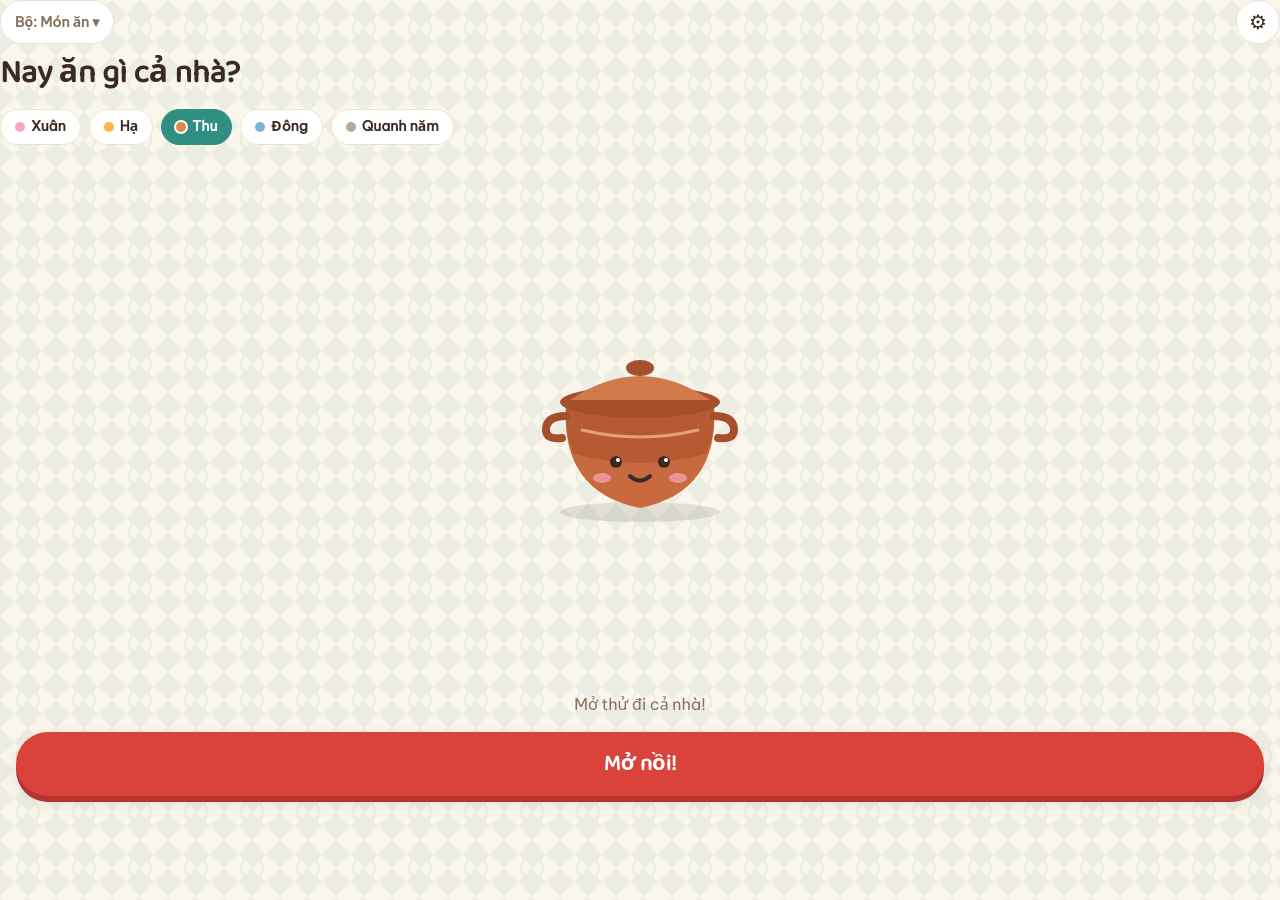
Test: SpinScreen › ô hết món → Thêm món: đóng mâm, mở form điền sẵn nhóm + mùa đang chọn; đóng form thì focus nút Quay
The image size is (1280, 900).
Click the button "Mở nồi!": (640, 764) x1=16 y1=732 x2=1264 y2=796
Wait 6910 ms
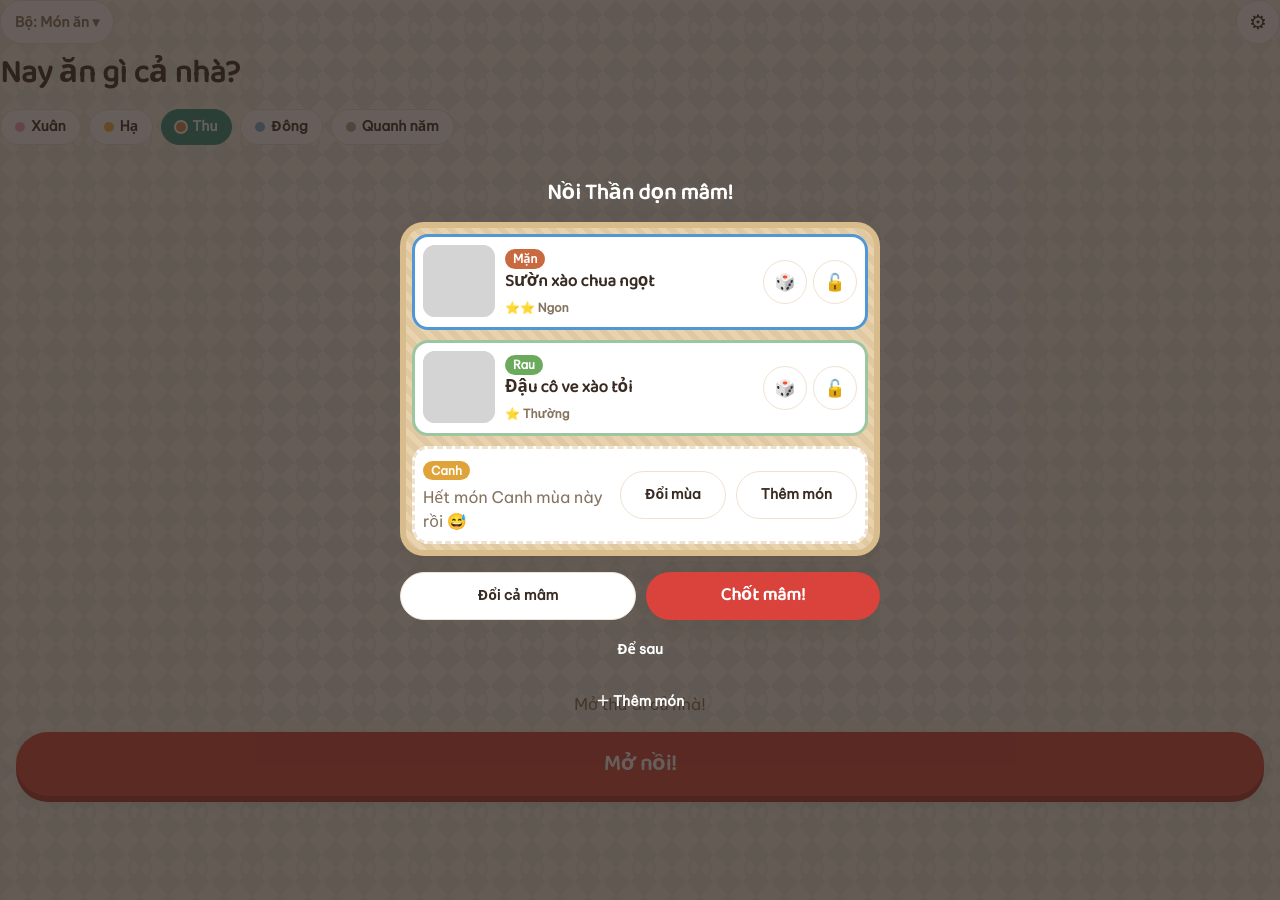
Click the button "Thêm món": (796, 494) x1=736 y1=470 x2=857 y2=518
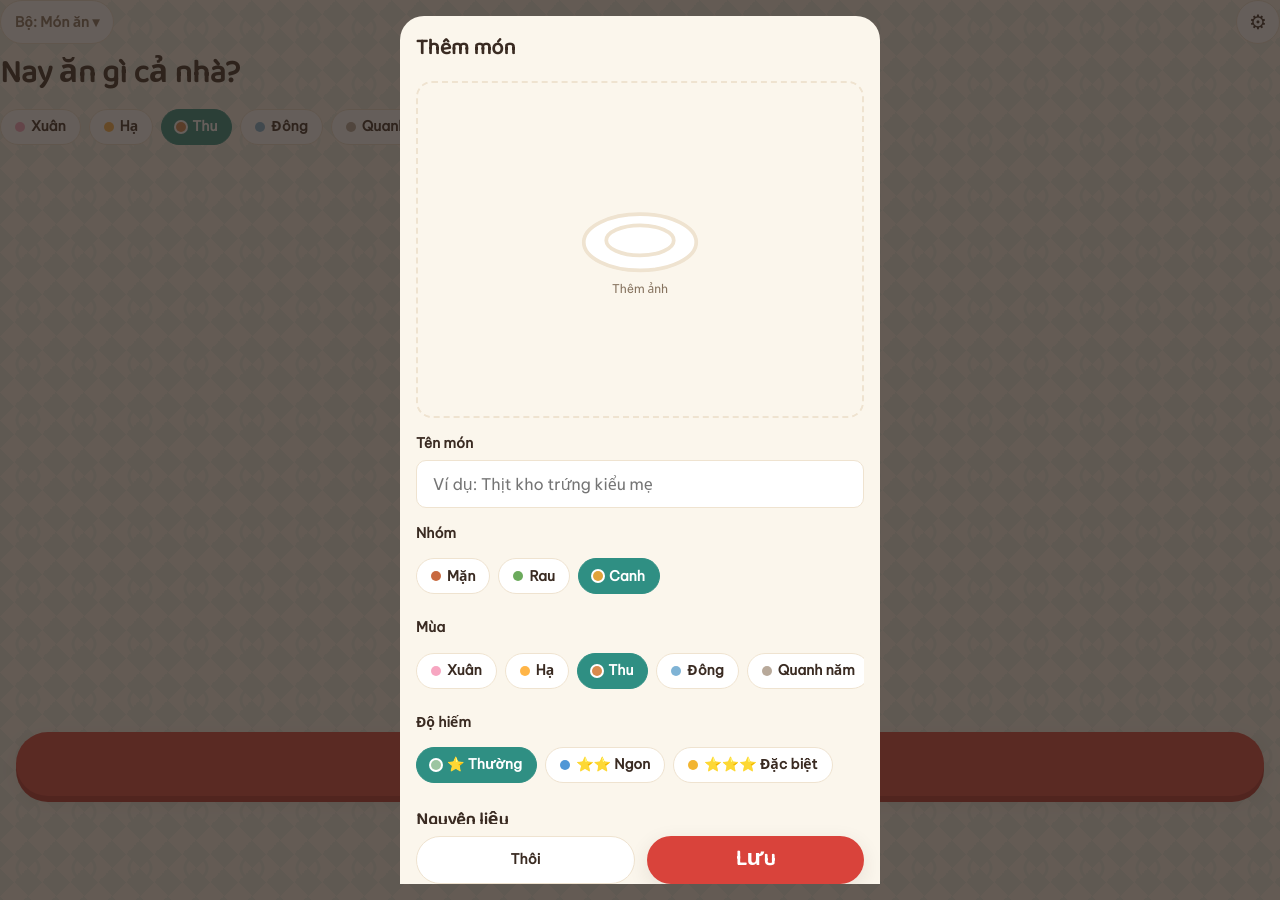
Result: the number of dialogs is 1 at x1=400 y1=16 x2=880 y2=884
Click the button "Thôi": (526, 860) x1=416 y1=836 x2=635 y2=884
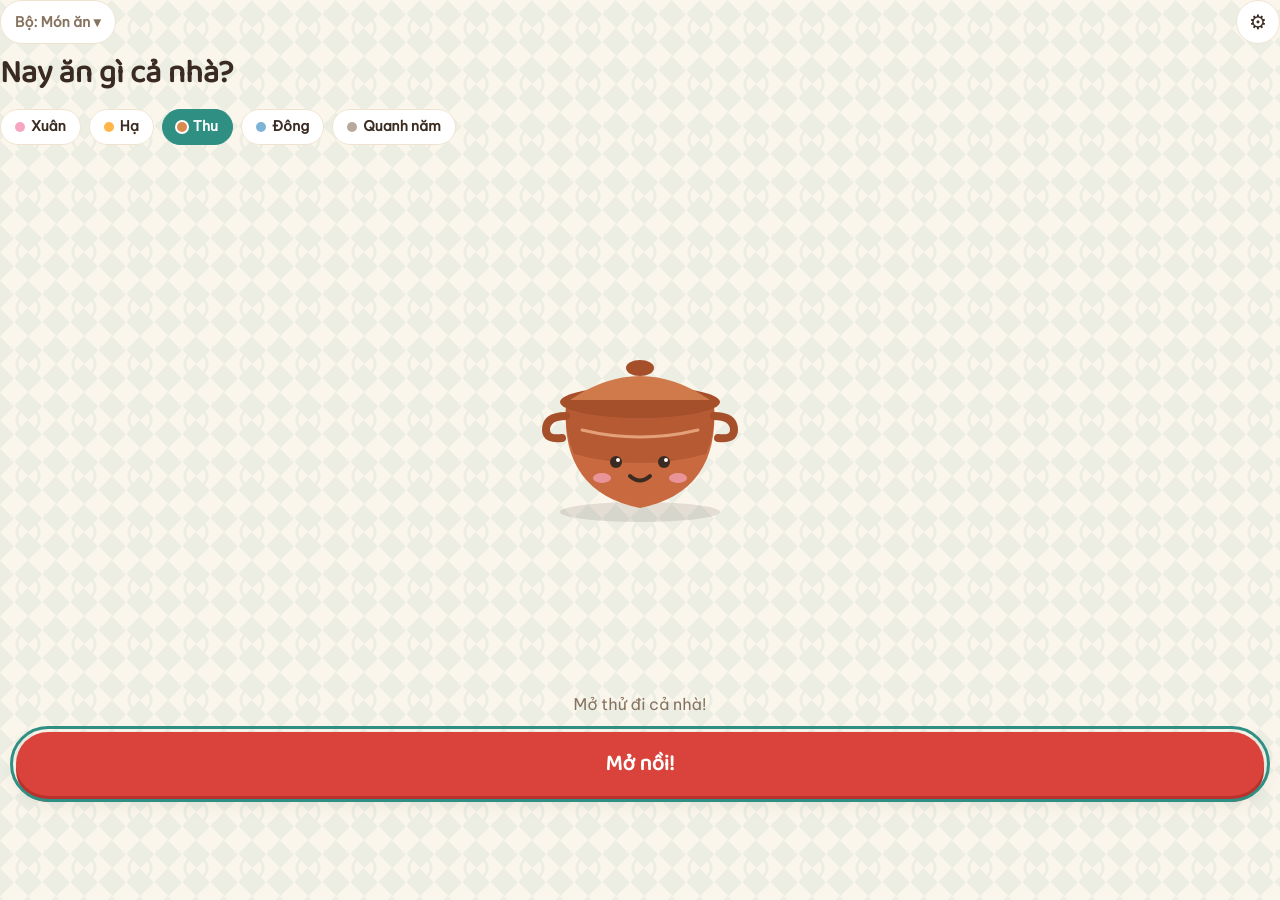
Result: the dialog is gone
